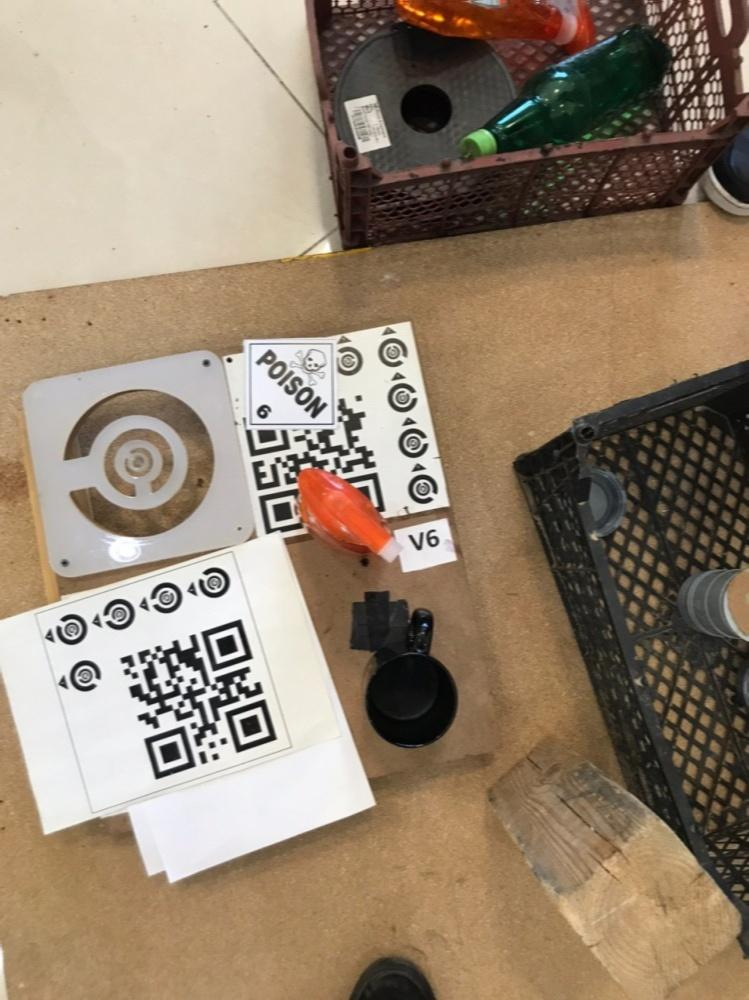poison: (244, 341, 338, 428)
